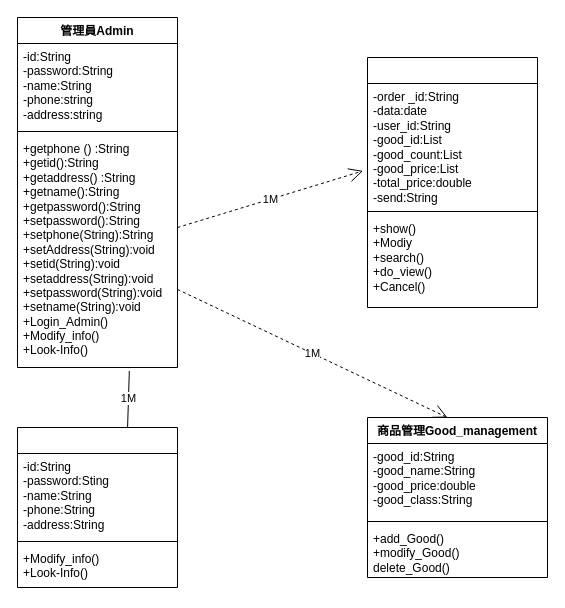
The diagram is 565 pixels wide and 608 high, and some of its shapes have lost their labels. Each missing label, with the box of its shape:
訂單管理Order_management: (366, 56, 538, 308)
顧客User: (16, 426, 178, 588)
